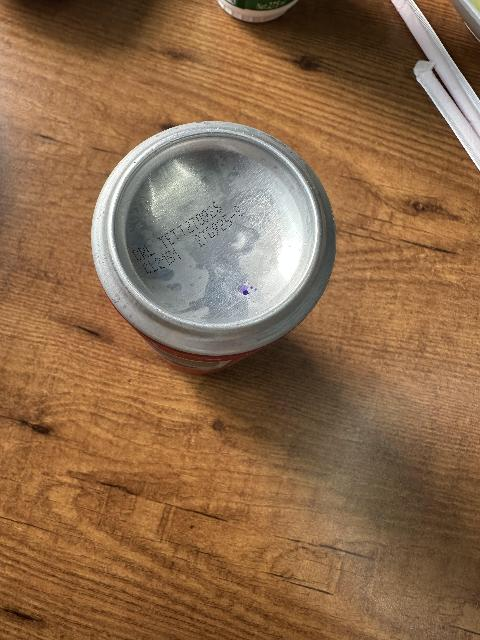Kagit: (410, 57, 480, 170), (384, 0, 456, 60)
Metal: (83, 116, 349, 376)
